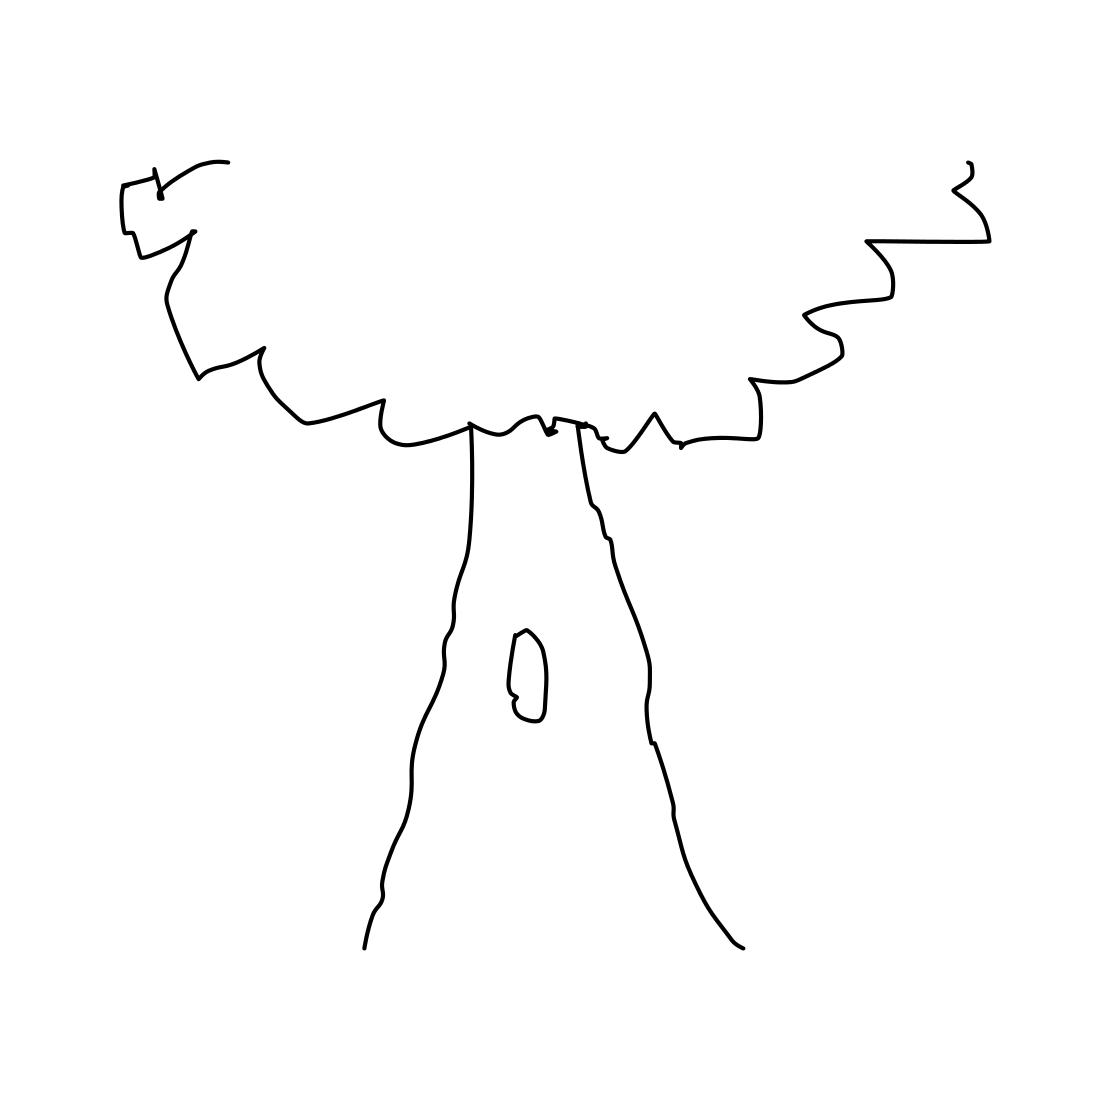Tree: (75, 61, 999, 972)
